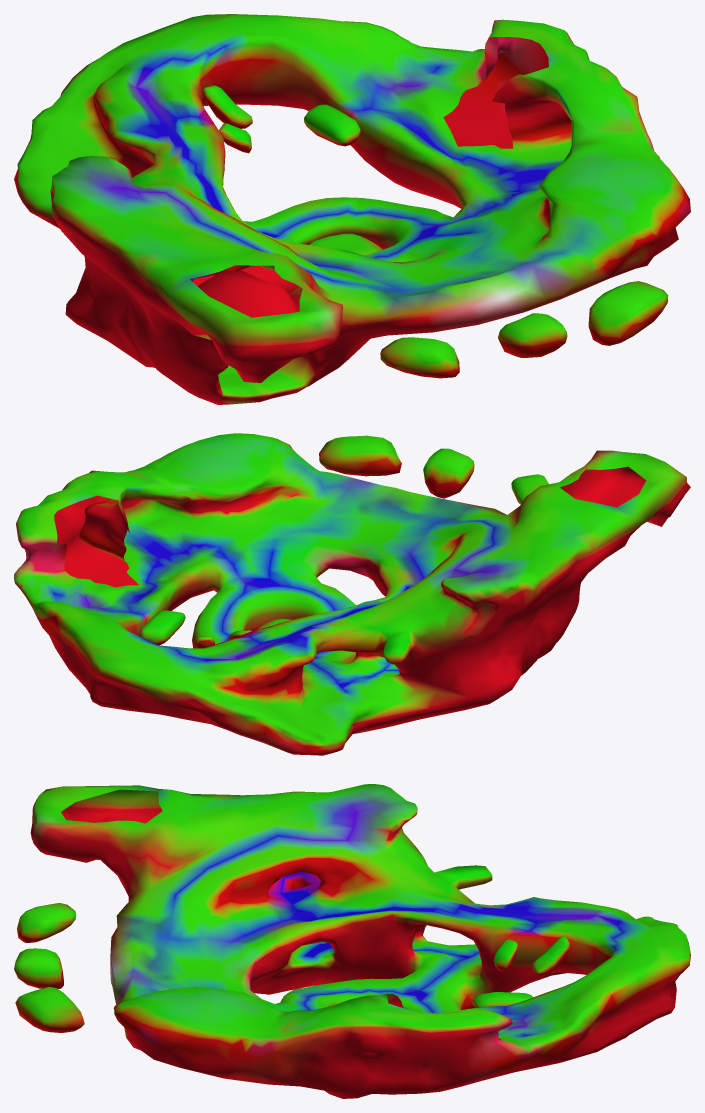
Rendered from Observatory Terrain 2.fbx.
3 views of the same model, one above another, from view 1: azimuth 30°, elevation 25°; view 2: azimuth 150°, elevation 25°; view 3: azimuth 270°, elevation 25° (orthographic). The views are drawn at different scales.
Visible parts, largest first — view 1: Terrain; view 2: Terrain; view 3: Terrain.
Boxes of the visible parts, x1,y1,x2,y2 form: Terrain: (14, 14, 690, 404); Terrain: (14, 433, 690, 755); Terrain: (14, 784, 690, 1098).
Size of the model in its own units: 7111 by 2282 by 8561.
